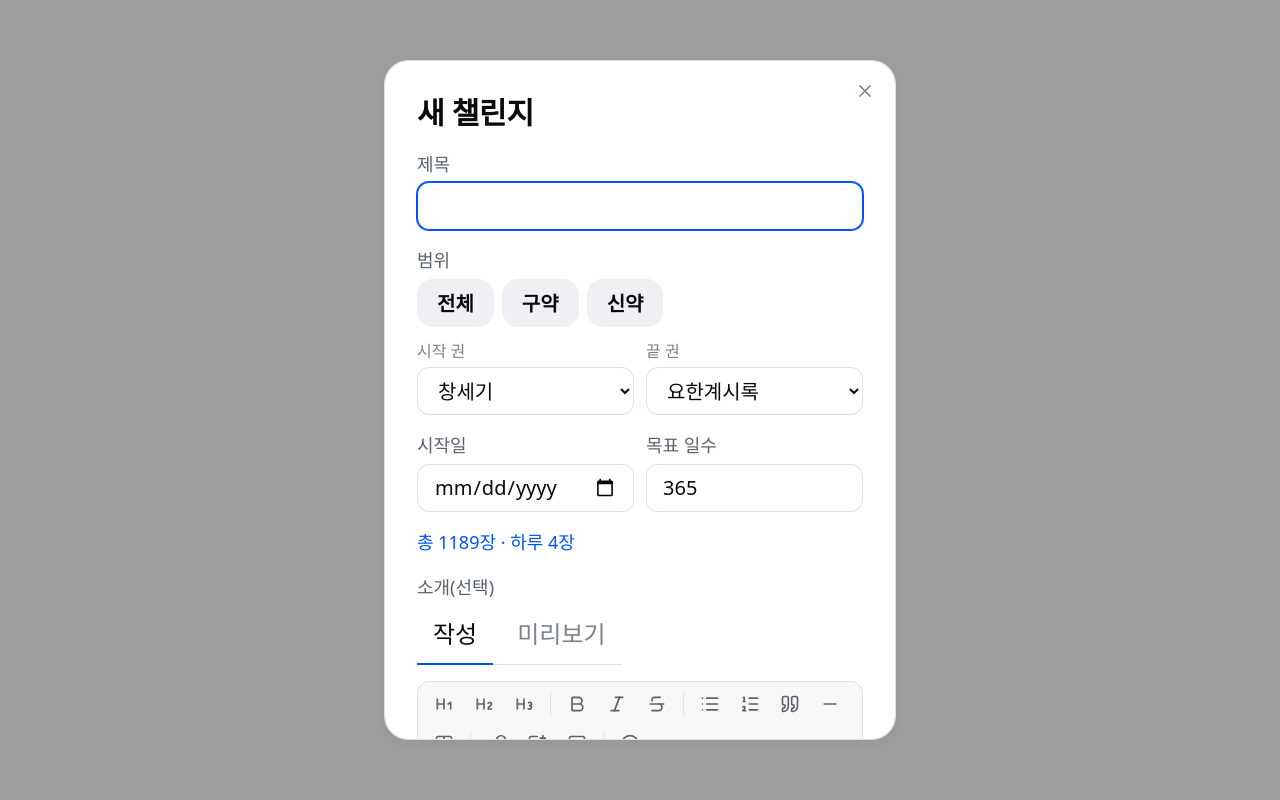
Test case: ChallengeFormDialog › 신약 프리셋 클릭 → 범위 40~66 + 미리보기(총 260장)
Click the button "신약".
click(625, 303)  # box [587,279,663,327]
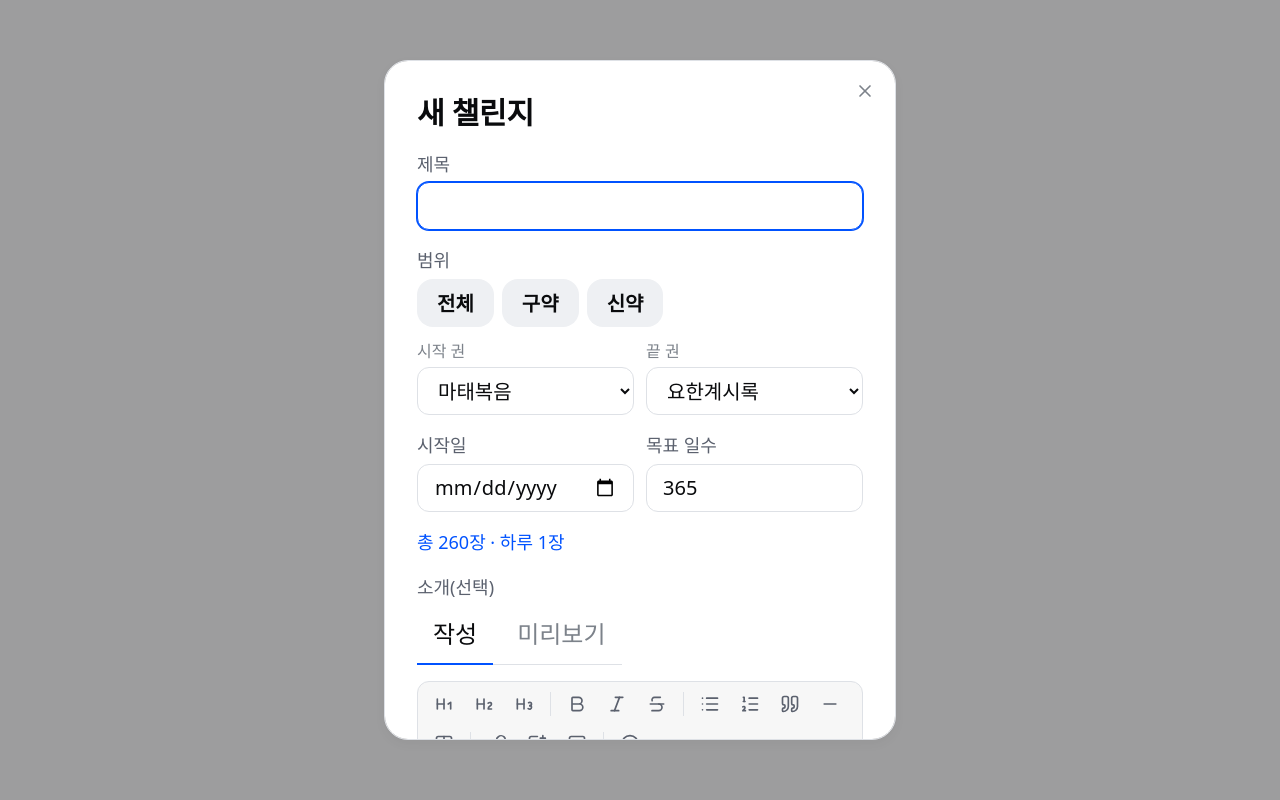
Expected: the dropdown labelled "끝 권" shows "요한계시록", [646,367,863,415]
Expected: the dropdown labelled "시작 권" shows "마태복음", [417,367,634,415]
Replace the text in the number field labelled "목표 일수" with "65" at (754, 488), box [646,464,863,512]
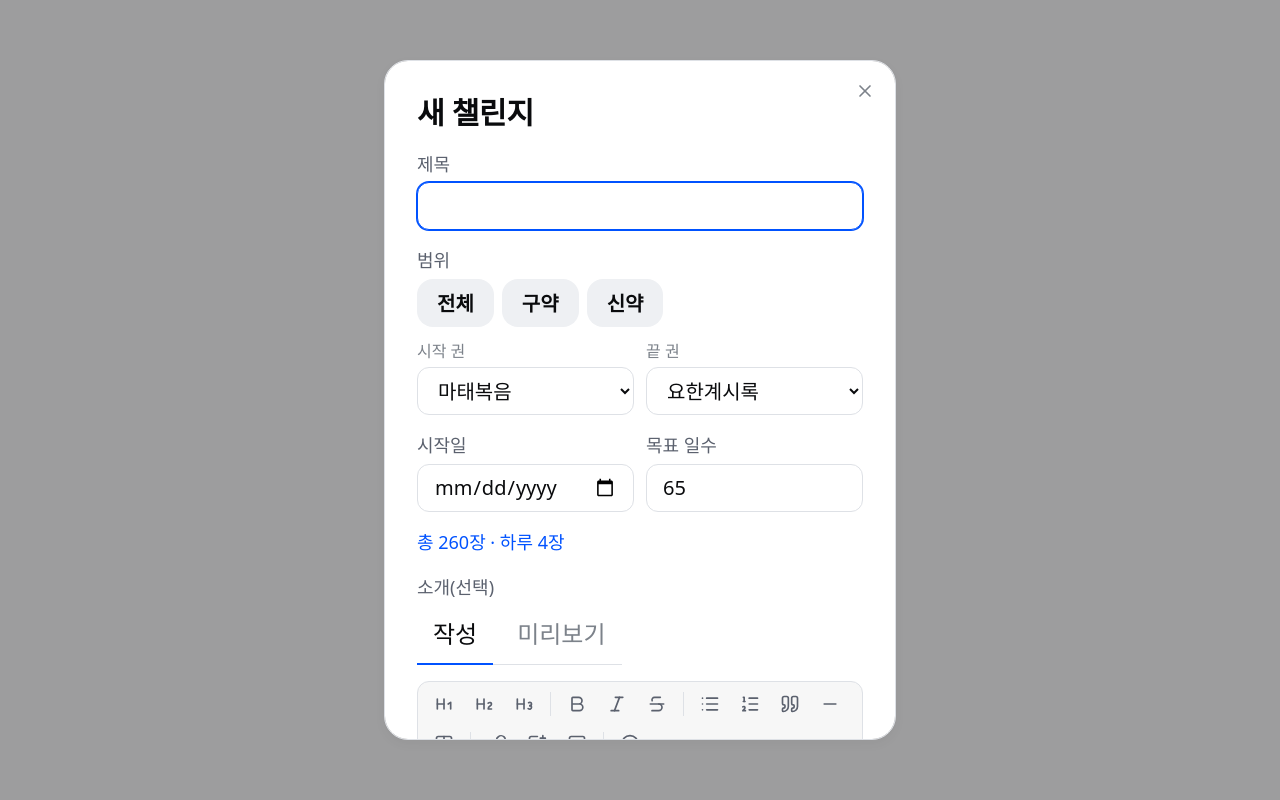
Expected: the text "총 260장 · 하루 4장" is shown, [417,530,564,554]
